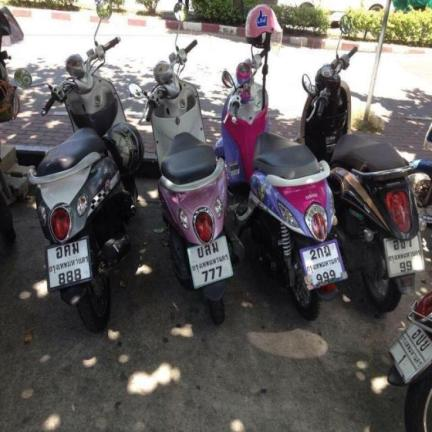2: (307, 248, 319, 262)
7: (208, 267, 217, 281), (216, 264, 225, 278), (201, 270, 210, 283)
8: (57, 273, 66, 285), (66, 270, 74, 282), (74, 269, 82, 280)
9: (314, 272, 325, 285), (398, 261, 406, 273), (329, 269, 338, 279), (323, 270, 330, 281), (406, 260, 413, 271)
A01: (315, 247, 325, 259)
A02: (400, 240, 406, 249)
A04: (63, 245, 71, 257)
A14: (322, 244, 333, 257)
A33: (71, 243, 80, 255), (211, 242, 219, 254)
A34: (196, 246, 204, 258)
A36: (204, 244, 212, 255)
A37: (407, 238, 415, 247)
A43: (391, 239, 400, 252), (55, 246, 63, 259)
BKK: (191, 252, 229, 275), (48, 255, 89, 276), (305, 255, 341, 275), (387, 249, 421, 264)
